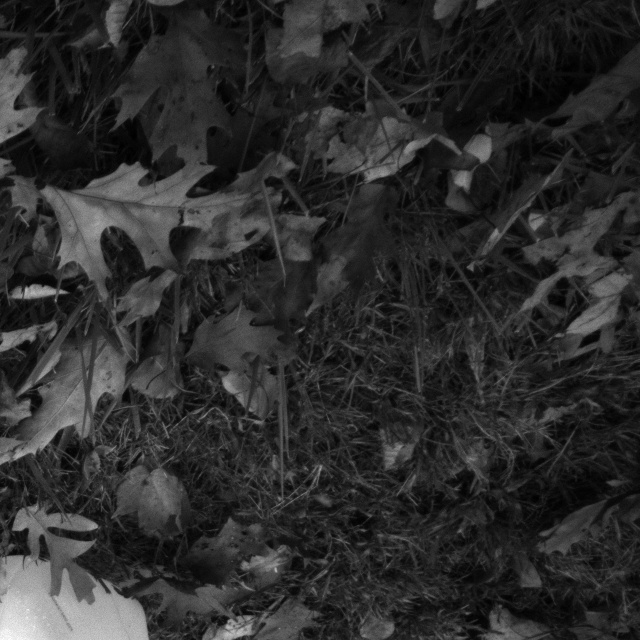can: (0, 554, 186, 640)
